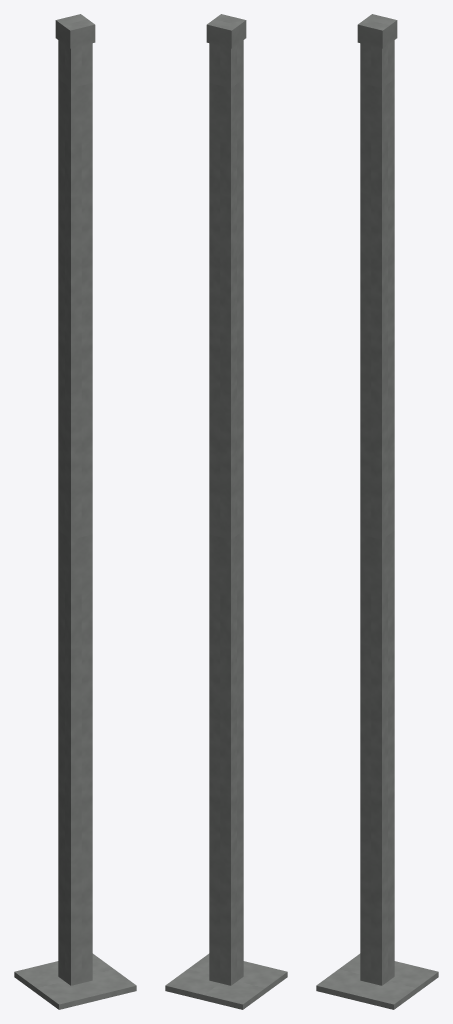
File: X14_PART_Post.glb
3 views of the same model, side by side, from view 1: azimuth 30°, elevation 25°; view 2: azimuth 150°, elevation 25°; view 3: azimuth 330°, elevation 25° (orthographic).
Parts seen in each view (by area): view 1: X14_PART_Post_LOD0; view 2: X14_PART_Post_LOD0; view 3: X14_PART_Post_LOD0.
Boxes of the visible parts, x1=… form: X14_PART_Post_LOD0: x1=14, y1=14, x2=136, y2=1009; X14_PART_Post_LOD0: x1=165, y1=14, x2=287, y2=1009; X14_PART_Post_LOD0: x1=316, y1=14, x2=438, y2=1009.
Size of what is drawn, in the model's own units: 0.18 by 2.13 by 0.18.
1 material, 1 textured.
